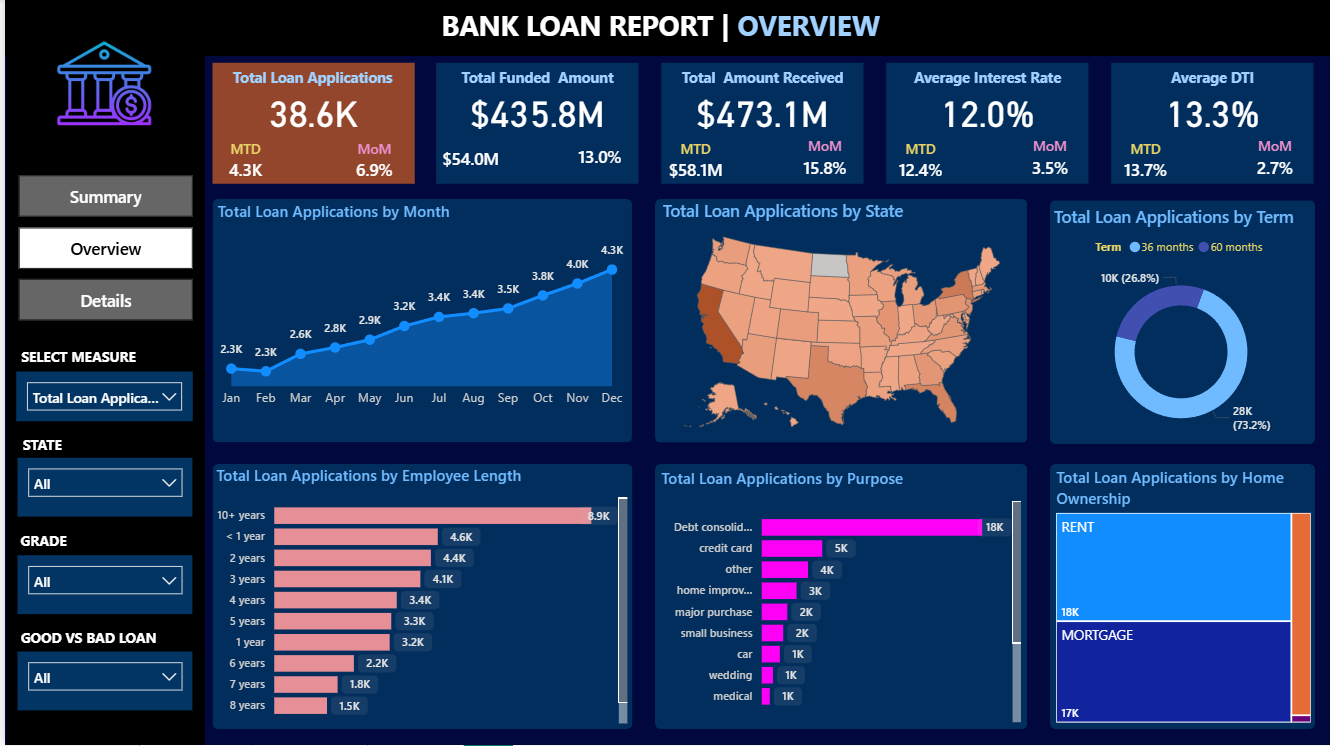

The dashboard page shown, as its layout file describes it:
{"tool":"powerbi","page":{"name":"Overview","canvas":[1280,720],"ordinal":1},"visuals":[{"type":"shape","box":[0,0,1280.3,55],"z":0},{"type":"shape","box":[633.4,61.2,195.4,117],"z":0,"group":"g3"},{"type":"shape","box":[200.3,61.5,195.4,117],"z":0,"group":"g1"},{"type":"shape","box":[417.1,61.5,195.4,117],"z":0,"group":"g2"},{"type":"shape","box":[850.8,61.5,195.4,117],"z":0,"group":"g4"},{"type":"shape","box":[1068.3,61.5,195.4,117],"z":0,"group":"g5"},{"type":"card","fields":{"Values":["bank_loan_data.Total Amount Received"]},"box":[640.6,80.5,181,54.3],"z":1000,"group":"g3"},{"type":"card","fields":{"Values":["bank_loan_data.Total Loan Applications"]},"box":[207.5,80.8,181,54.3],"z":1000,"group":"g1"},{"type":"card","fields":{"Values":["bank_loan_data.Total Funded Amount"]},"box":[424.3,80.8,181,54.3],"z":1000,"group":"g2"},{"type":"card","fields":{"Values":["bank_loan_data.Avg Interest Rate"]},"box":[858,80.8,181,54.3],"z":1000,"group":"g4"},{"type":"card","fields":{"Values":["bank_loan_data.Avg DTI"]},"box":[1075.5,80.8,181,54.3],"z":1000,"group":"g5"},{"type":"shape","box":[200.3,193,405,235],"z":1000},{"type":"shape","box":[1.2,54.3,191.8,666],"z":2000},{"type":"textbox","box":[640,61.2,181,30.2],"z":2000,"group":"g3"},{"type":"textbox","box":[206.3,61.5,181,33.8],"z":2000,"group":"g1"},{"type":"textbox","box":[423.7,61.5,181,30.2],"z":2000,"group":"g2"},{"type":"textbox","box":[857.4,61.5,181,30.2],"z":2000,"group":"g4"},{"type":"textbox","box":[1074.9,61.5,181,30.2],"z":2000,"group":"g5"},{"type":"textbox","box":[416.2,2.4,447.6,51.9],"z":3000},{"type":"card","title":"MTD","fields":{"Values":["bank_loan_data.MTD Loan Applications"]},"box":[200.3,135.1,63.9,43.4],"z":3000,"group":"g1"},{"type":"card","title":"MTD","fields":{"Values":["bank_loan_data.MTD Total Amount Received"]},"box":[632.8,135.4,66.4,43.4],"z":3000,"group":"g3"},{"type":"card","title":"MTD","fields":{"Values":["bank_loan_data.MTD Funded Amount"]},"box":[416.5,135.7,66.4,43.4],"z":3000,"group":"g2"},{"type":"card","title":"MTD","fields":{"Values":["bank_loan_data.MTD Avg Interest Rate"]},"box":[850.2,135.7,66.4,43.4],"z":3000,"group":"g4"},{"type":"card","title":"MTD","fields":{"Values":["bank_loan_data.MTD Avg DTI"]},"box":[1067.7,135.7,66.4,43.4],"z":3000,"group":"g5"},{"type":"group","id":"g1","title":"Group 1","box":[200.3,61.5,195.4,117],"z":4000},{"type":"card","title":"MoM","fields":{"Values":["bank_loan_data.MoM Amount Received"]},"box":[755.9,132.4,70,43.4],"z":4000,"group":"g3"},{"type":"card","title":"MoM","fields":{"Values":["bank_loan_data.MoM Funded Amount"]},"box":[539.6,132.7,70,43.4],"z":4000,"group":"g2"},{"type":"card","title":"MoM","fields":{"Values":["bank_loan_data.MoM Avg Int Rate"]},"box":[973.3,132.7,70,43.4],"z":4000,"group":"g4"},{"type":"card","title":"MoM","fields":{"Values":["bank_loan_data.MoM Avg DTI"]},"box":[1190.8,132.7,70,43.4],"z":4000,"group":"g5"},{"type":"card","title":"MoM","fields":{"Values":["bank_loan_data.MoM Loan Application"]},"box":[324.6,135.1,63.9,43.4],"z":4000,"group":"g1"},{"type":"group","id":"g2","title":"Group 1","box":[416.5,61.5,195.4,117],"z":5000},{"type":"group","id":"g3","title":"Group 1","box":[632.8,61.2,196.6,118.2],"z":6000},{"type":"group","id":"g4","title":"Group 1","box":[850.2,61.5,196.6,118.2],"z":7000},{"type":"group","id":"g5","title":"Group 1","box":[1067.7,61.5,196.6,118.2],"z":8000},{"type":"slicer","fields":{"Values":["bank_loan_data.Good vs Bad Loan"]},"box":[12.1,630,168.9,56.7],"z":9000},{"type":"textbox","box":[0,599.8,156.8,33.8],"z":10000},{"type":"slicer","fields":{"Values":["bank_loan_data.grade"]},"box":[12.1,537.3,168.9,56.7],"z":11000},{"type":"slicer","fields":{"Values":["bank_loan_data.address_state"]},"box":[12.1,443,168.9,56.7],"z":12000},{"type":"textbox","box":[1.2,505.9,67.6,33.8],"z":13000},{"type":"textbox","box":[2.4,412.8,62.7,33.8],"z":14000},{"type":"areaChart","fields":{"Y":["bank_loan_data.Total Loan Applications"],"Category":["Date Table.Month"]},"box":[200.3,194.2,404.2,208.7],"z":15000},{"type":"slicer","fields":{"Values":["Select Measure.Select Measure"]},"box":[10.9,359.7,170.1,48.3],"z":16000},{"type":"textbox","box":[2.4,328.4,136.3,33.8],"z":17000},{"type":"shape","box":[627.3,193,359.5,235.3],"z":18000},{"type":"shapeMap","fields":{"Value":["bank_loan_data.Total Loan Applications"],"Category":["bank_loan_data.address_state"]},"box":[629.8,193,357.1,235.3],"z":19000},{"type":"shape","box":[1008.6,194.2,255.8,235.3],"z":20000},{"type":"donutChart","fields":{"Y":["bank_loan_data.Total Loan Applications"],"Category":["bank_loan_data.term"]},"box":[1007.4,199.1,255.8,234],"z":21000},{"type":"shape","box":[200.3,448.8,405.4,255.8],"z":22000},{"type":"shape","box":[627.3,448.8,359.5,255.8],"z":24000},{"type":"barChart","fields":{"Y":["bank_loan_data.Total Loan Applications"],"Category":["bank_loan_data.purpose"]},"box":[628.6,452.4,357.1,250.9],"z":25000},{"type":"shape","box":[1008.6,448.8,255.8,255.8],"z":26000},{"type":"treemap","fields":{"Values":["bank_loan_data.Total Loan Applications"],"Group":["bank_loan_data.home_ownership"]},"box":[1009.8,451.2,255.8,252.1],"z":27000},{"type":"image","box":[43.4,26.5,105,109.8],"z":28000},{"type":"pageNavigator","box":[13,170.1,168.9,141.2],"z":29000},{"type":"lineClusteredColumnComboChart","title":"Grade-Level Revenue vs Credit Risk","fields":{"Category":["Grade Revenue Risk.grade"],"Y":["Sum(Grade Revenue Risk.total_funded_amount)"],"Y2":["Avg(Grade Revenue Risk.default_rate_percentage)"]},"box":[206.2,452.5,391.2,237.5],"z":29001}]}

Visuals, with their boxes in screenshot pixels (x1, y1, x2, y2), scaled from the page's 1280x720 canvas onto the 1330x746 screenshot:
shape: crop(0, 0, 1329, 57)
shape: crop(658, 63, 861, 185)
shape: crop(208, 64, 411, 185)
shape: crop(433, 64, 636, 185)
shape: crop(884, 64, 1087, 185)
shape: crop(1110, 64, 1313, 185)
card - bank_loan_data.Total Amount Received: crop(666, 83, 854, 140)
card - bank_loan_data.Total Loan Applications: crop(216, 84, 404, 140)
card - bank_loan_data.Total Funded Amount: crop(441, 84, 629, 140)
card - bank_loan_data.Avg Interest Rate: crop(892, 84, 1080, 140)
card - bank_loan_data.Avg DTI: crop(1118, 84, 1306, 140)
shape: crop(208, 200, 629, 443)
shape: crop(1, 56, 201, 745)
textbox: crop(665, 63, 853, 95)
textbox: crop(214, 64, 402, 99)
textbox: crop(440, 64, 628, 95)
textbox: crop(891, 64, 1079, 95)
textbox: crop(1117, 64, 1305, 95)
textbox: crop(432, 2, 898, 56)
"MTD" card: crop(208, 140, 275, 185)
"MTD" card: crop(658, 140, 727, 185)
"MTD" card: crop(433, 141, 502, 186)
"MTD" card: crop(883, 141, 952, 186)
"MTD" card: crop(1109, 141, 1178, 186)
"Group 1" group: crop(208, 64, 411, 185)
"MoM" card: crop(785, 137, 858, 182)
"MoM" card: crop(561, 137, 633, 182)
"MoM" card: crop(1011, 137, 1084, 182)
"MoM" card: crop(1237, 137, 1310, 182)
"MoM" card: crop(337, 140, 404, 185)
"Group 1" group: crop(433, 64, 636, 185)
"Group 1" group: crop(658, 63, 862, 186)
"Group 1" group: crop(883, 64, 1088, 186)
"Group 1" group: crop(1109, 64, 1314, 186)
slicer - bank_loan_data.Good vs Bad Loan: crop(13, 653, 188, 711)
textbox: crop(0, 621, 163, 656)
slicer - bank_loan_data.grade: crop(13, 557, 188, 615)
slicer - bank_loan_data.address_state: crop(13, 459, 188, 518)
textbox: crop(1, 524, 71, 559)
textbox: crop(2, 428, 68, 463)
areaChart - bank_loan_data.Total Loan Applications x Date Table.Month: crop(208, 201, 628, 417)
slicer - Select Measure.Select Measure: crop(11, 373, 188, 423)
textbox: crop(2, 340, 144, 375)
shape: crop(652, 200, 1025, 444)
shapeMap - bank_loan_data.Total Loan Applications x bank_loan_data.address_state: crop(654, 200, 1025, 444)
shape: crop(1048, 201, 1314, 445)
donutChart - bank_loan_data.Total Loan Applications x bank_loan_data.term: crop(1047, 206, 1313, 449)
shape: crop(208, 465, 629, 730)
shape: crop(652, 465, 1025, 730)
barChart - bank_loan_data.Total Loan Applications x bank_loan_data.purpose: crop(653, 469, 1024, 729)
shape: crop(1048, 465, 1314, 730)
treemap - bank_loan_data.Total Loan Applications x bank_loan_data.home_ownership: crop(1049, 467, 1315, 729)
image: crop(45, 27, 154, 141)
pageNavigator: crop(14, 176, 189, 323)
"Grade-Level Revenue vs Credit Risk" lineClusteredColumnComboChart: crop(214, 469, 621, 715)
